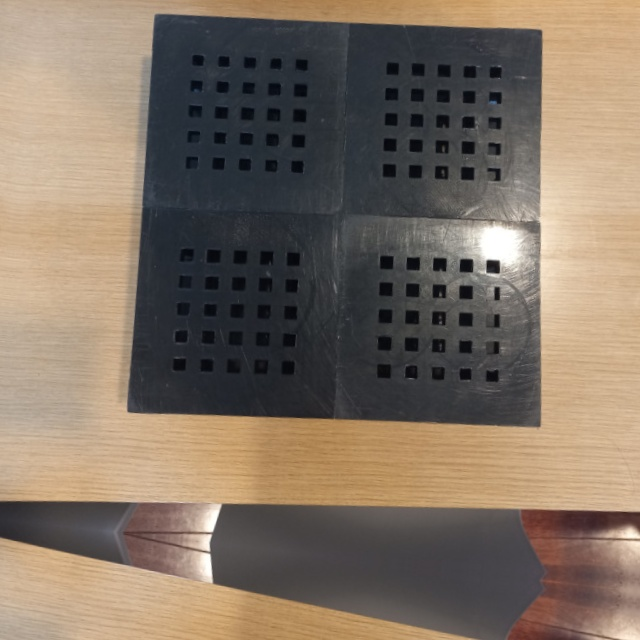pallet: (100, 9, 545, 458)
